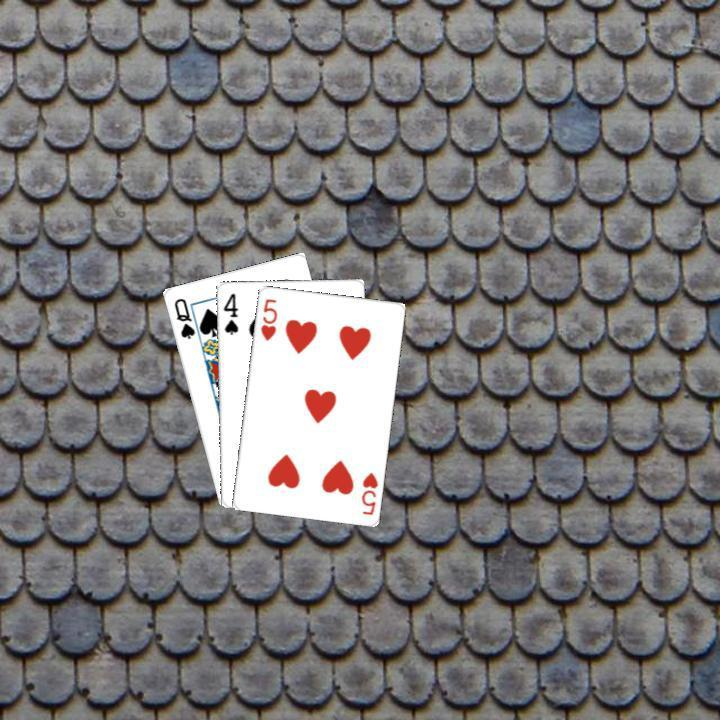4: (218, 288, 240, 336)
5: (256, 294, 279, 342), (357, 467, 379, 516)
Q: (169, 294, 196, 341)
